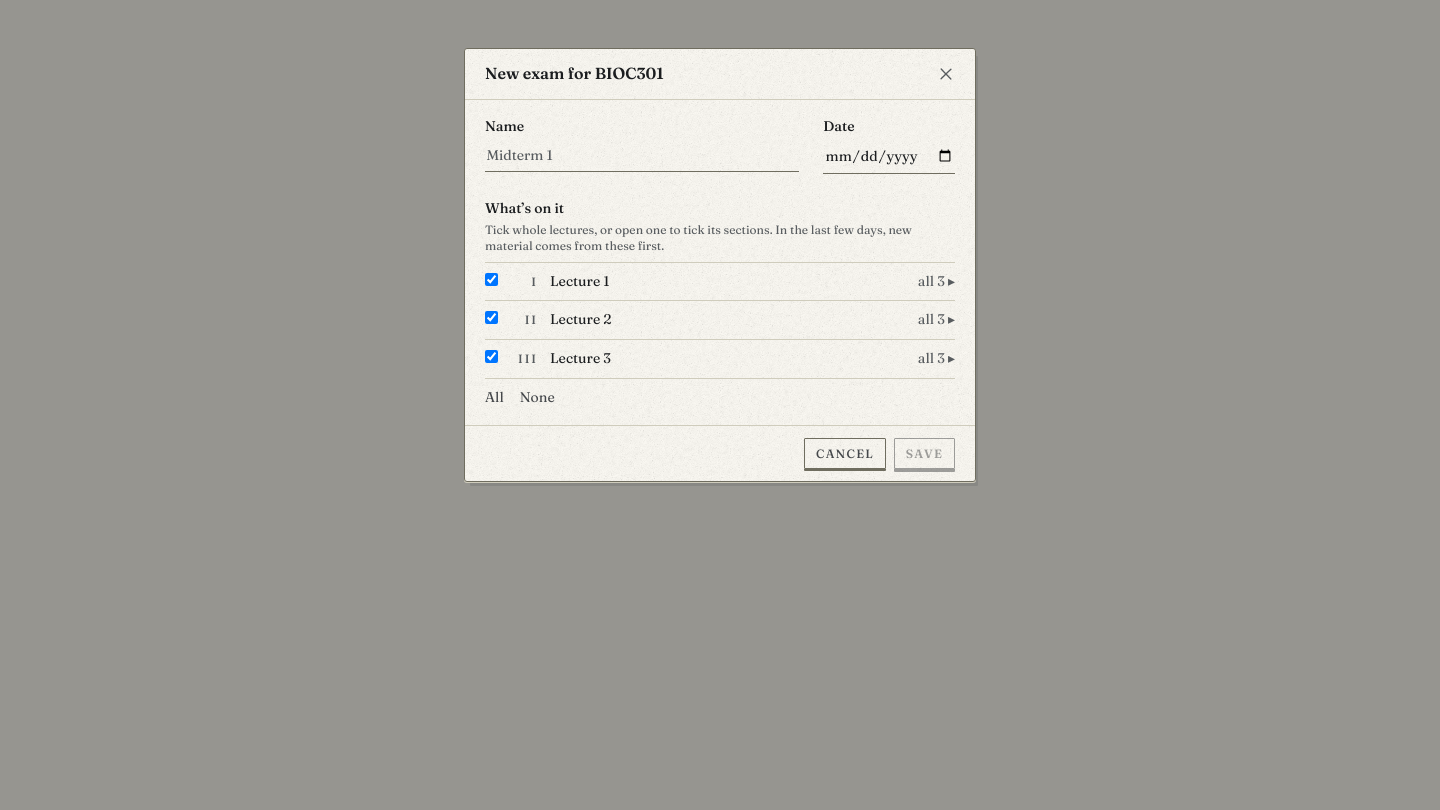
Scenario: ClassExamDialog › will not save without a date or with nothing ticked
This screenshot has width=1440, height=810.
Expected: the button "Save" is disabled, x1=894 y1=438 x2=955 y2=469
Type "2099-10-20" into the date field labelled "Date". click: (889,157)
box: x1=823 y1=140 x2=955 y2=174
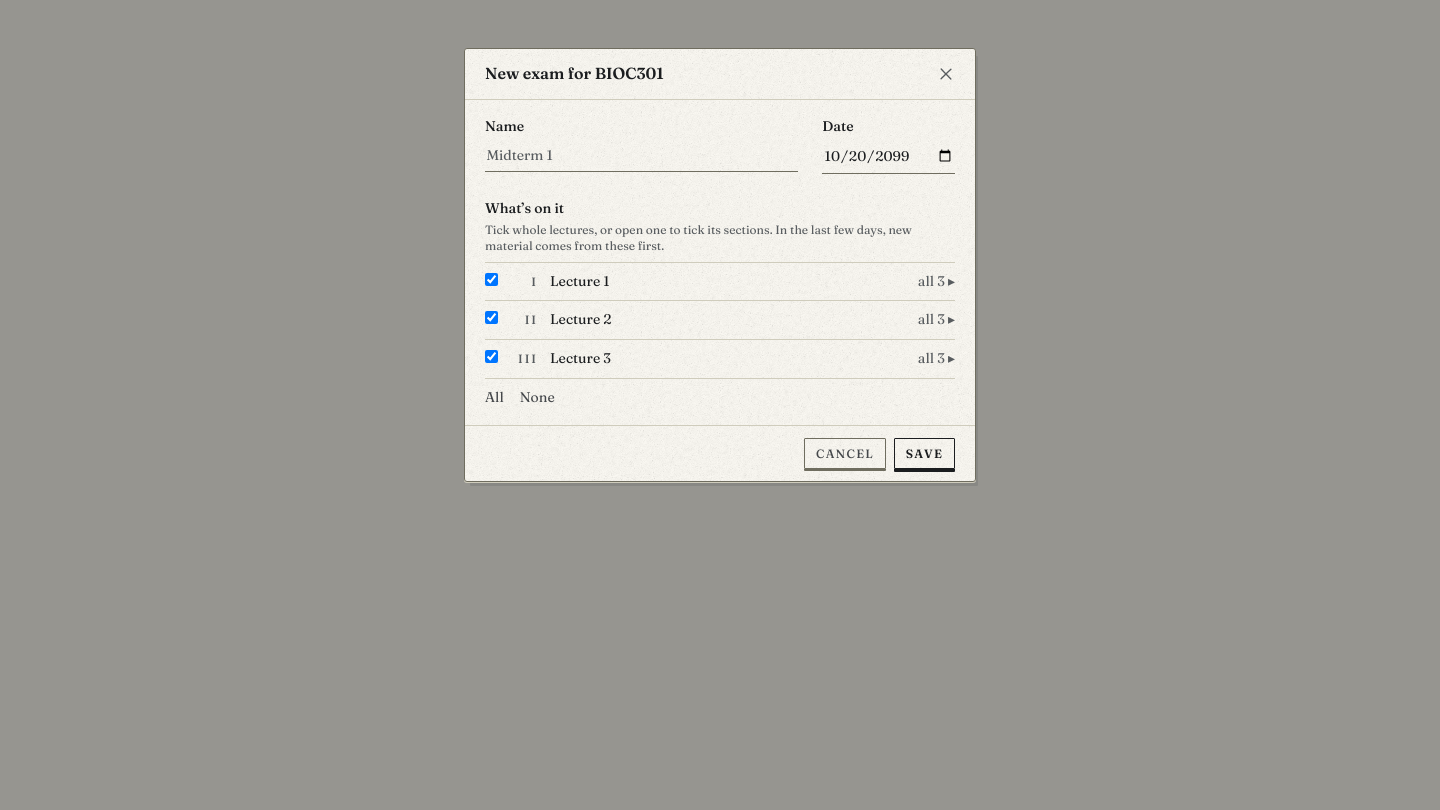
Click the button "None". click: (537,398)
box: x1=520 y1=387 x2=555 y2=408
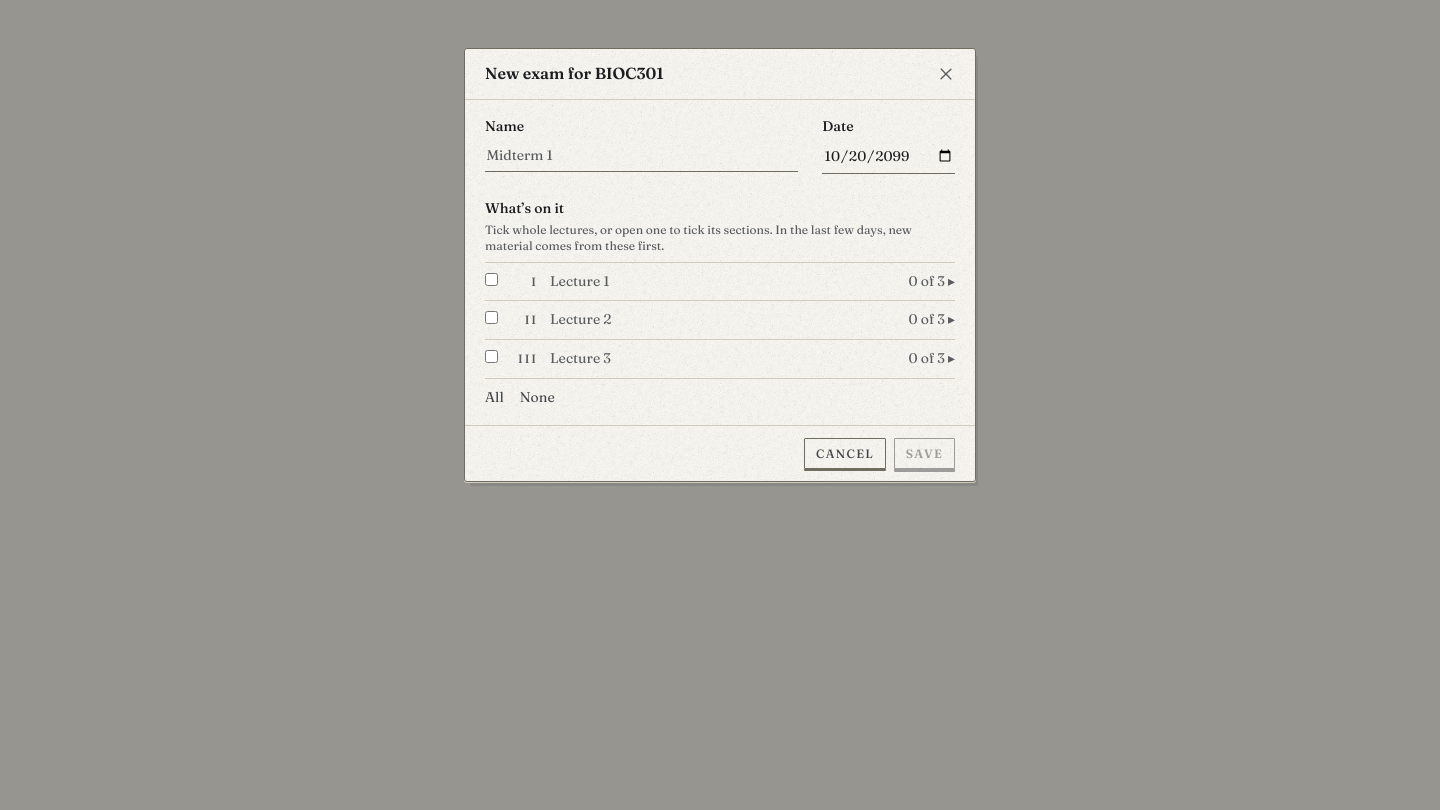
Result: the button "Save" is disabled at x1=894 y1=438 x2=955 y2=469
